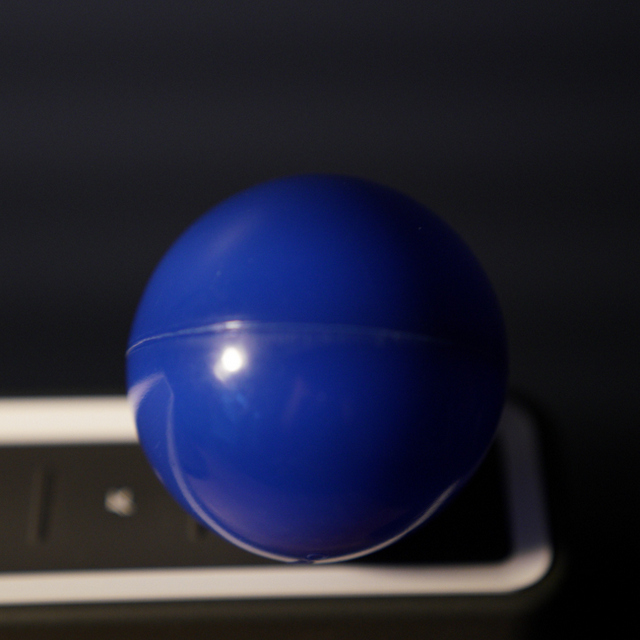Ball: (129, 177, 507, 565)
